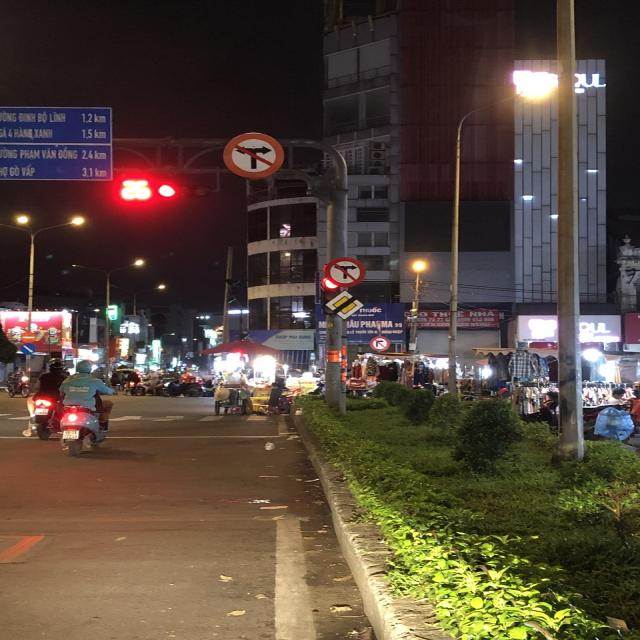Bien bao cam re phai: (369, 334, 390, 350)
